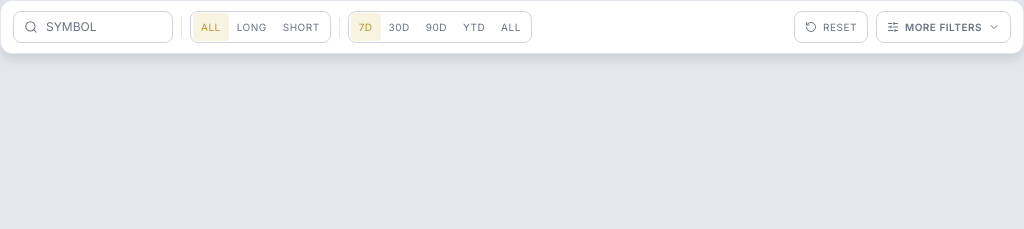
it: AnalyticsFilterBar — multi-select behavior across the MultiSelectMenu extraction › the expander reveals the three menus; the Mistake menu lists distinct sorted labels
Click the button "More filters" at (943, 27), box [876,11,1011,43]
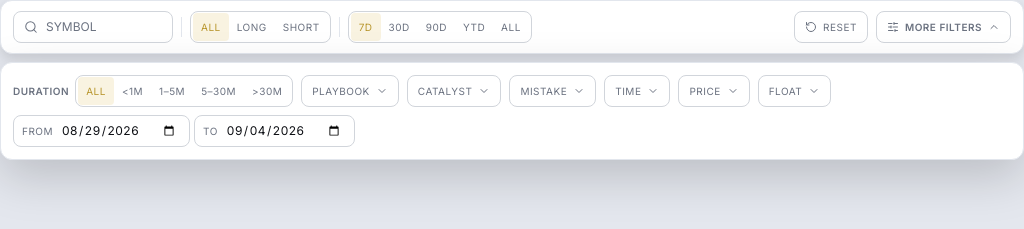
Click the button "Mistake" at (553, 91), box [509,75,596,107]
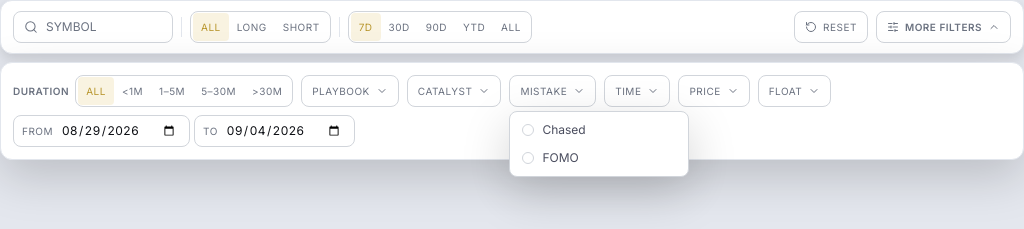
Expected: the text "FOMO" is shown once, [542,150,579,166]
